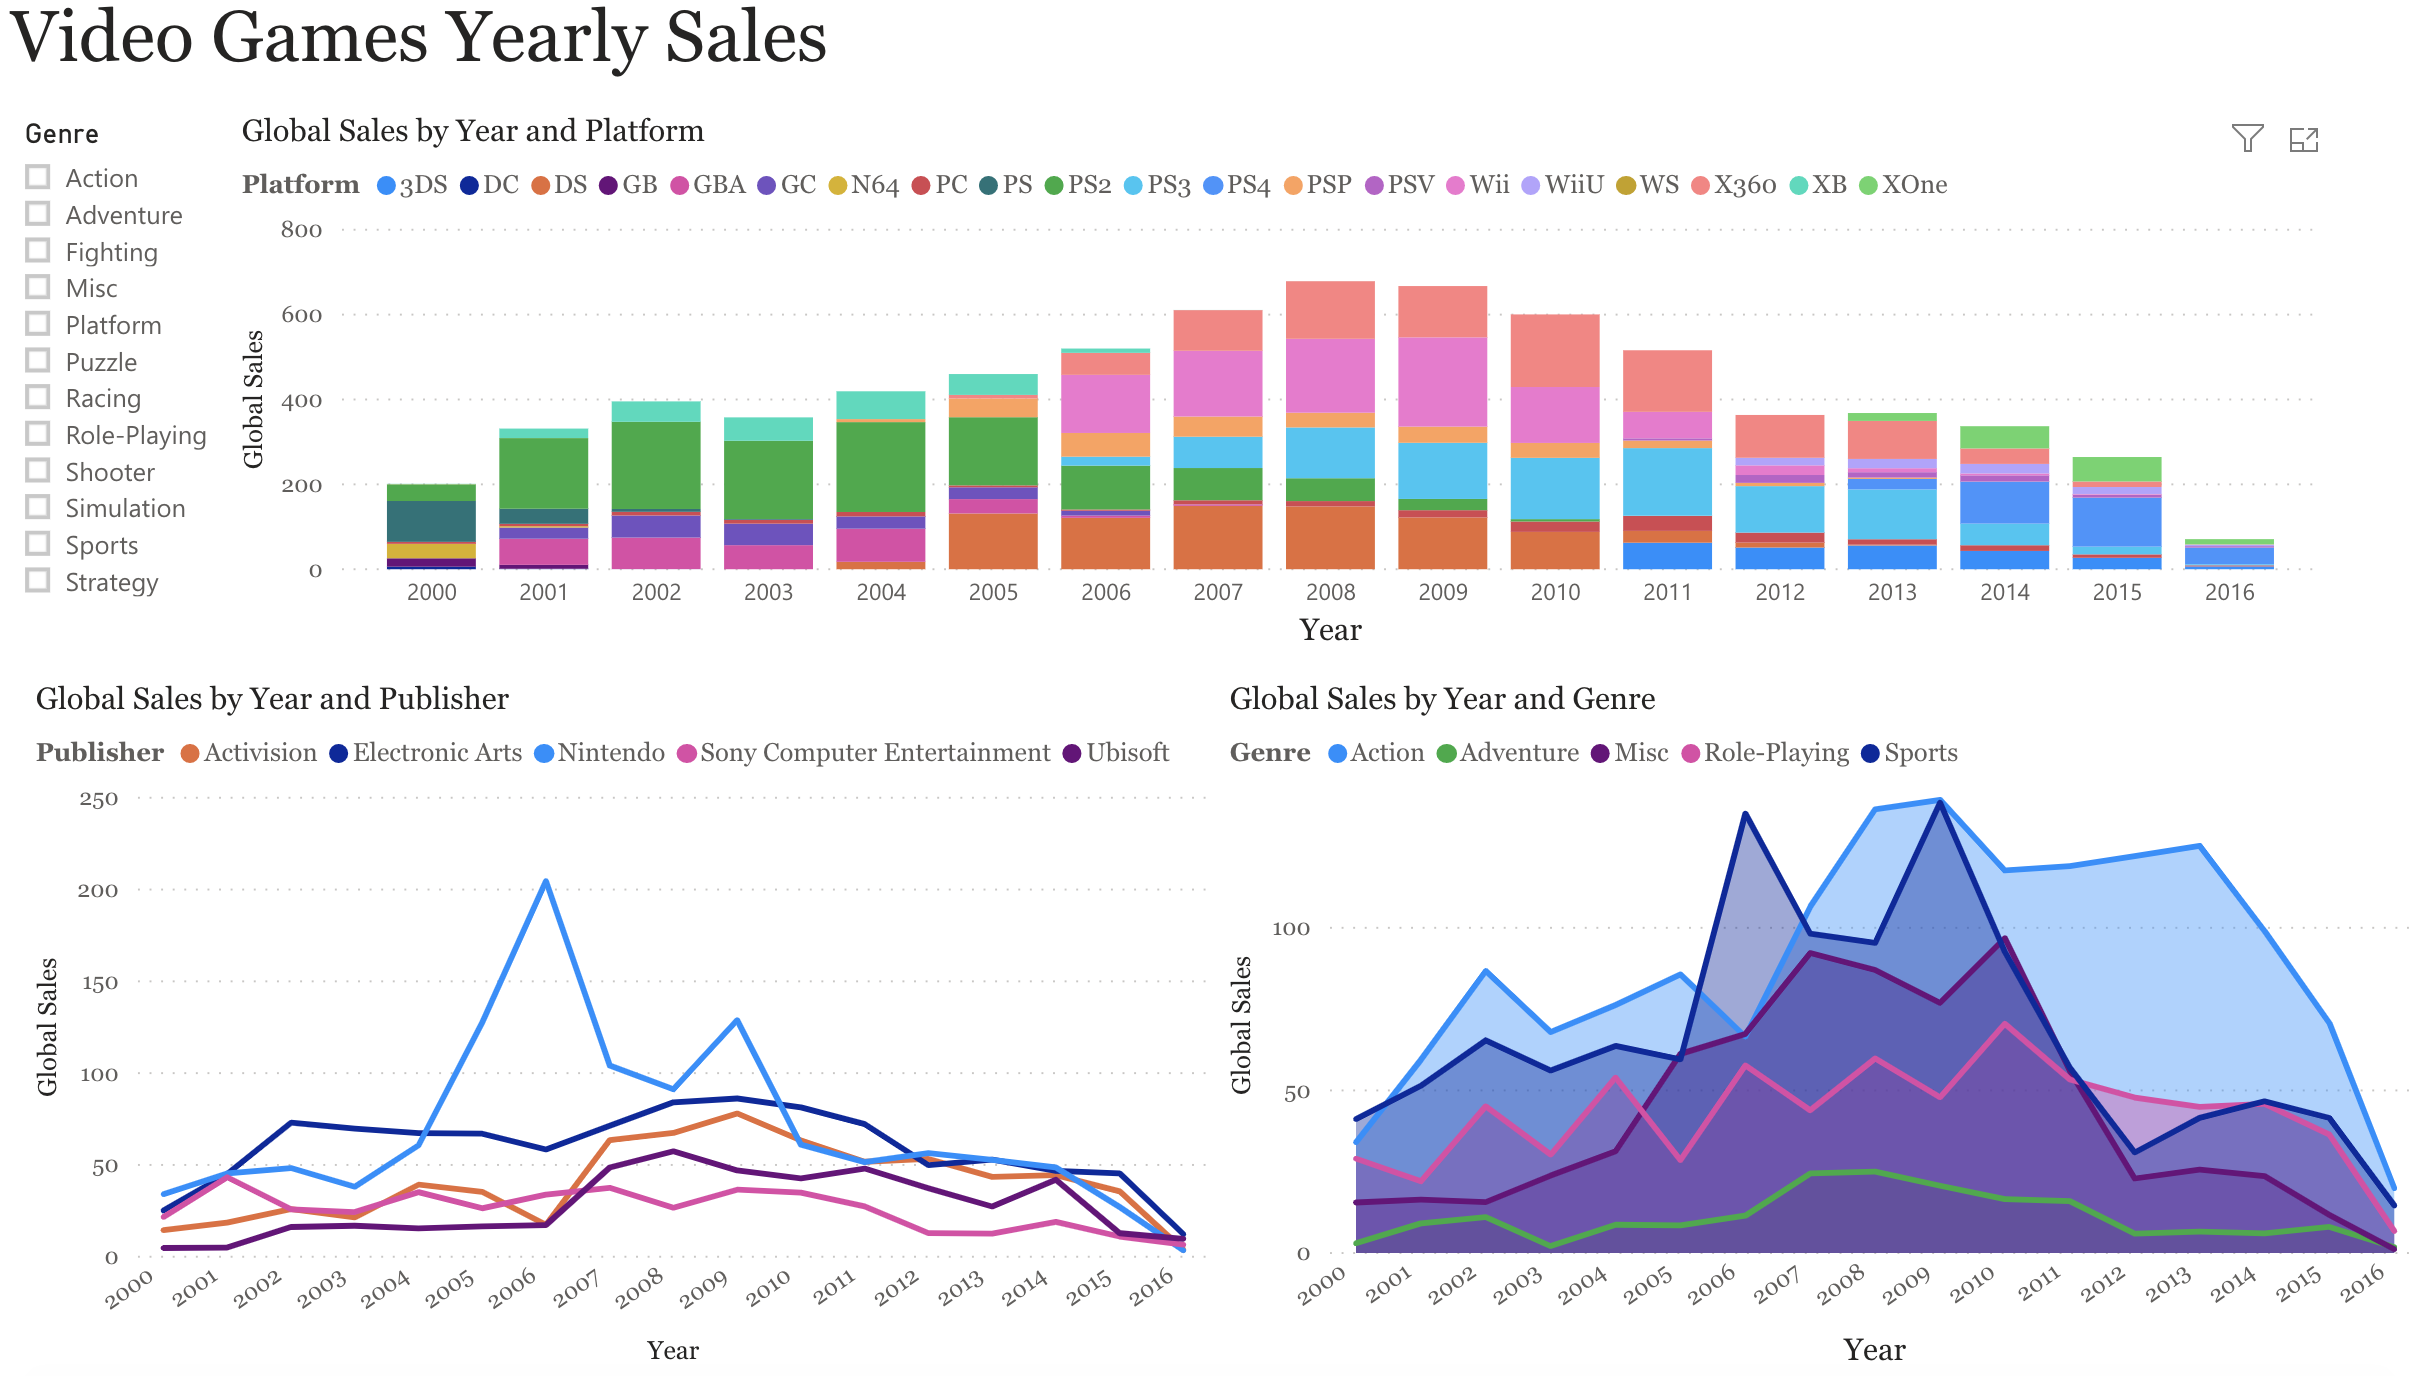

The page's visual inventory and layout, read from the dashboard file:
{"tool":"powerbi","page":{"name":"Yearly Sale","canvas":[1280,720],"ordinal":2},"visuals":[{"type":"textbox","box":[9.6,0,557.2,83.5],"z":0},{"type":"columnChart","title":"Global Sales by Year and Platform","fields":{"Y":["Sum(vgsales.Global_Sales)"],"Category":["vgsales.Year"],"Series":["vgsales.Platform"]},"box":[130.1,65.7,1087,282],"z":1000},{"type":"slicer","fields":{"Values":["vgsales.Genre"]},"box":[9.6,65.7,120.5,269.7],"z":2000},{"type":"lineChart","title":"Global Sales by Year and Publisher","fields":{"Category":["vgsales.Year"],"Y":["Sum(vgsales.Global_Sales)"],"Series":["vgsales.Publisher"]},"box":[23.1,359.6,617.7,359.6],"z":3000},{"type":"areaChart","title":"Global Sales by Year and Genre","fields":{"Y":["Sum(vgsales.Global_Sales)"],"Category":["vgsales.Year"],"Series":["vgsales.Genre"]},"box":[641.2,359.9,626.9,361.1],"z":4000}]}

Visuals, with their boxes in screenshot pixels (x1, y1, x2, y2), scaled from the page's 1280x720 canvas onto the 2418x1376 screenshot:
textbox: bbox(18, 0, 1071, 160)
"Global Sales by Year and Platform" columnChart: bbox(246, 126, 2299, 664)
slicer - vgsales.Genre: bbox(18, 126, 246, 641)
"Global Sales by Year and Publisher" lineChart: bbox(44, 687, 1211, 1374)
"Global Sales by Year and Genre" areaChart: bbox(1211, 688, 2396, 1375)
